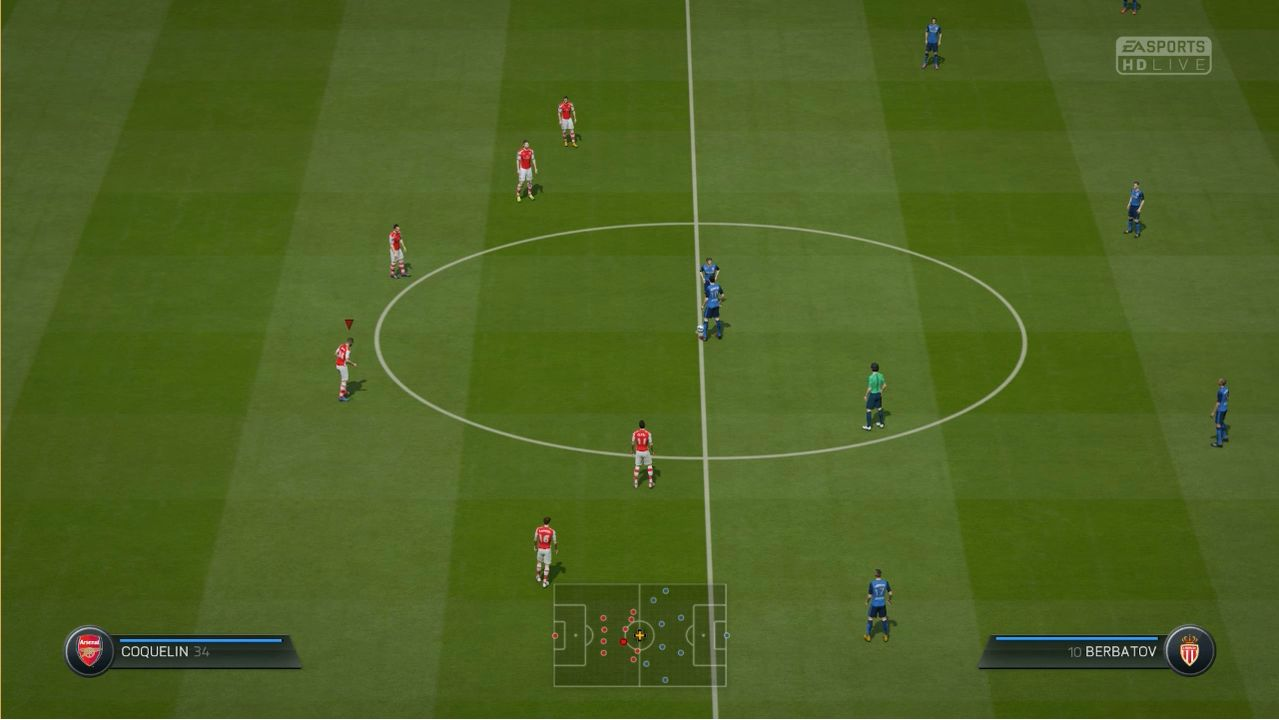ball: (696, 321, 705, 337)
player: (861, 566, 898, 643), (627, 417, 659, 493), (1209, 376, 1235, 450), (331, 336, 360, 401), (530, 509, 554, 587), (513, 139, 539, 201), (556, 93, 584, 147), (384, 218, 408, 280), (921, 15, 942, 68), (1127, 178, 1144, 242), (707, 280, 722, 339), (702, 256, 716, 307)
